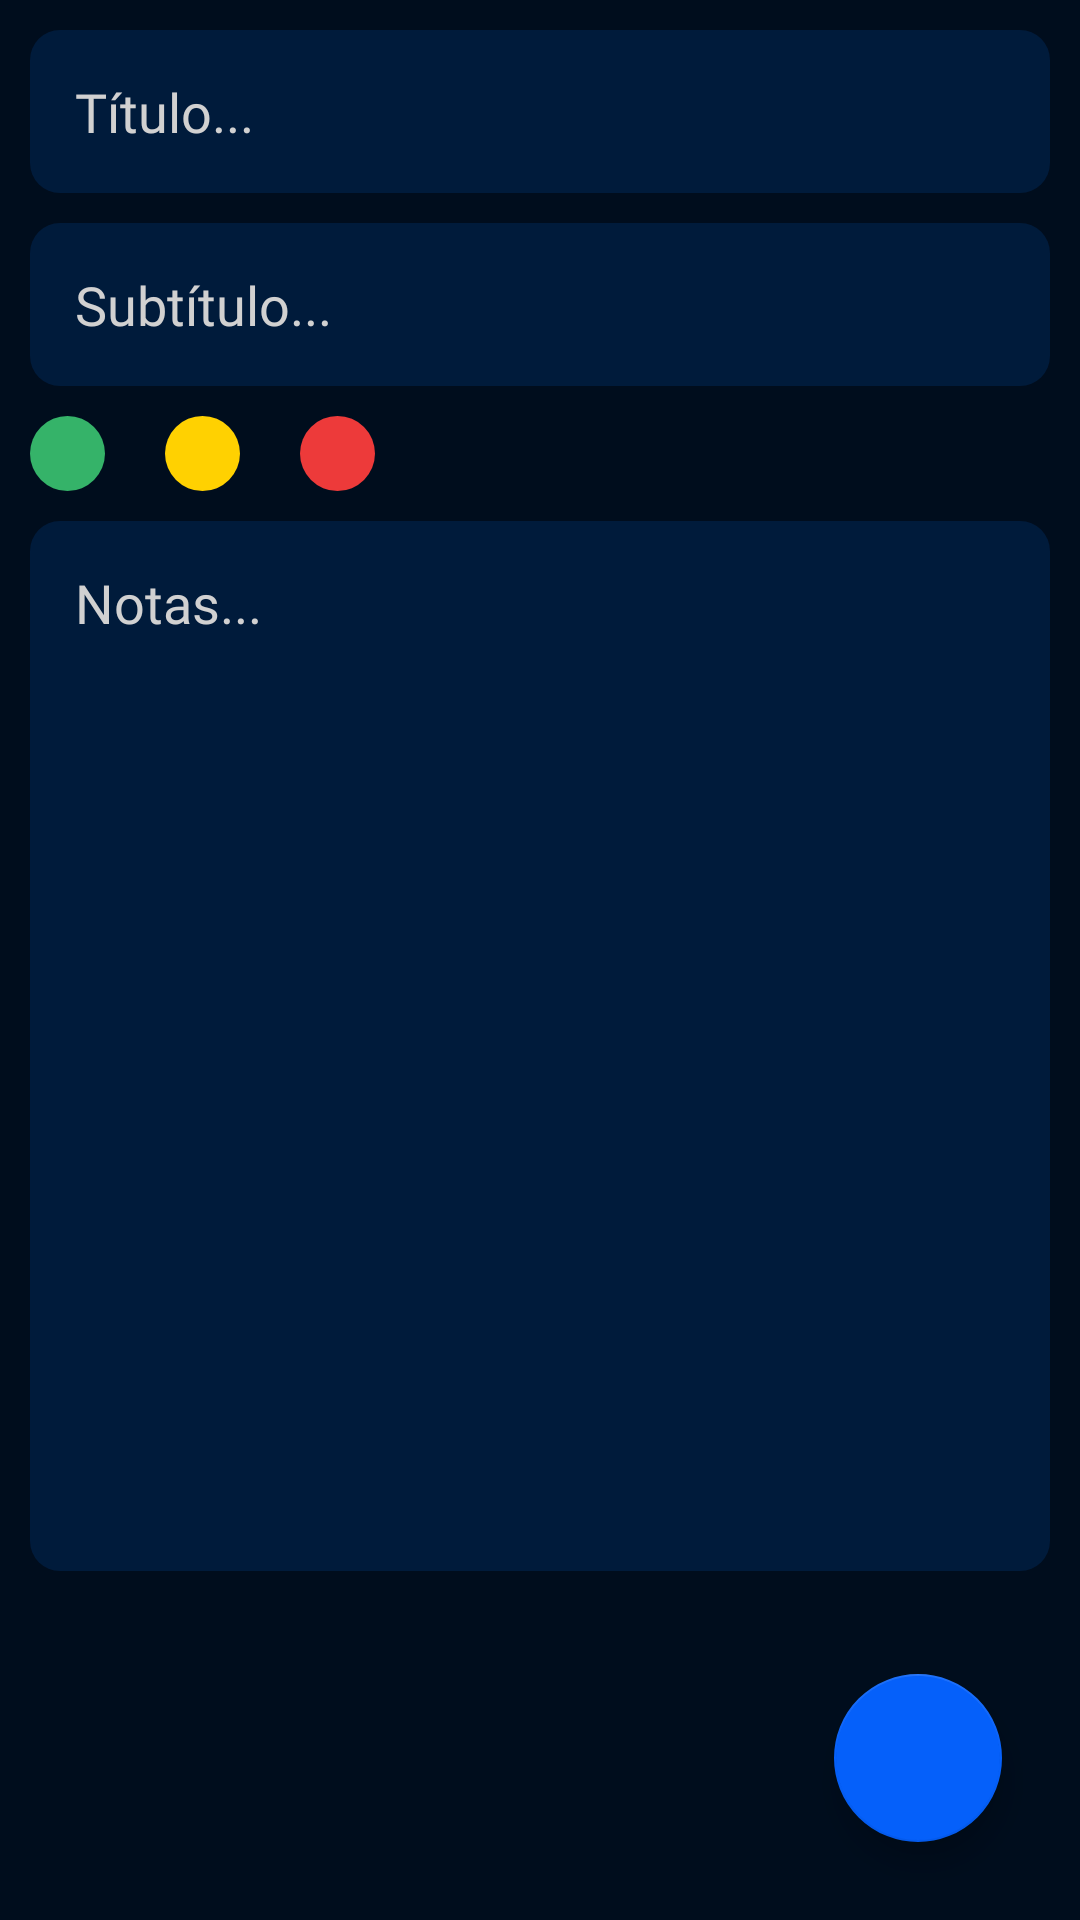

Named icons in this screenshot (1080px×1920px) and their centers, (x,y):
dot: (67,453), (337,453)
yelllow dot: (202,453)
